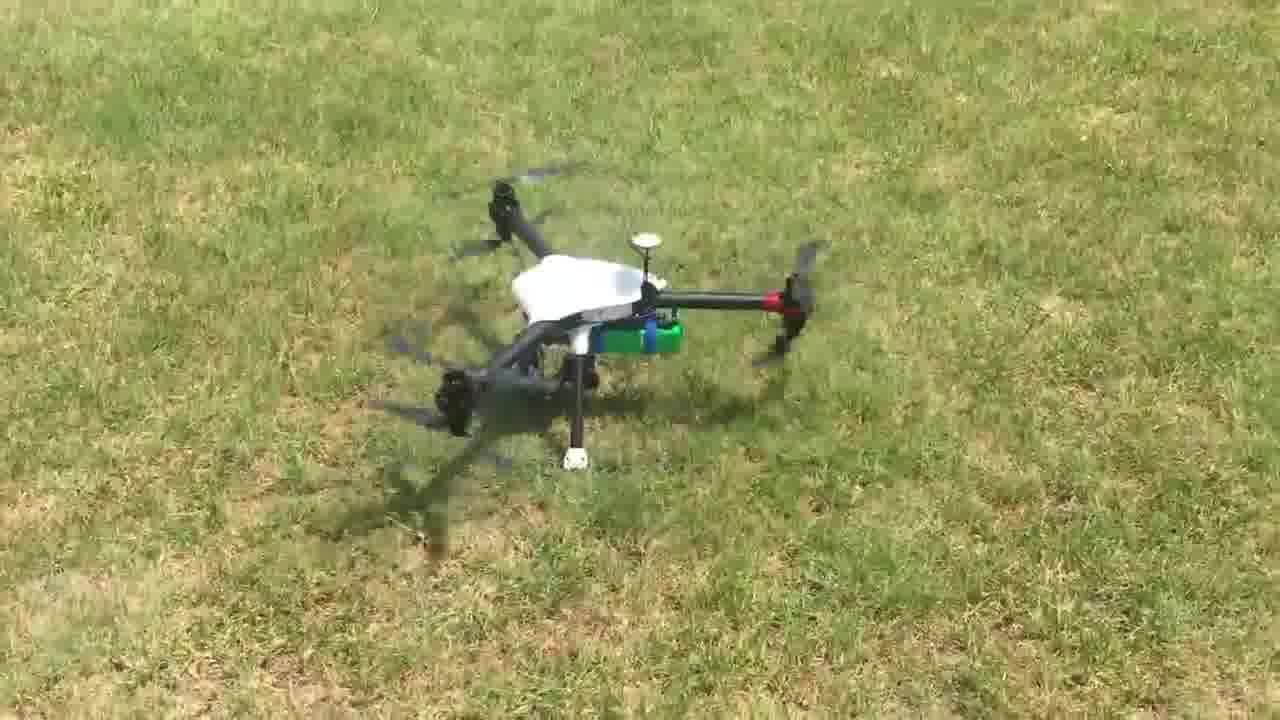drone: (366, 155, 840, 498)
